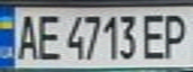1: (100, 11, 121, 61)
3: (118, 11, 142, 61)
4: (63, 11, 84, 61)
7: (81, 11, 103, 61)
A: (12, 10, 42, 61)
E: (139, 11, 172, 61), (33, 11, 63, 62)
P: (157, 10, 193, 60)
